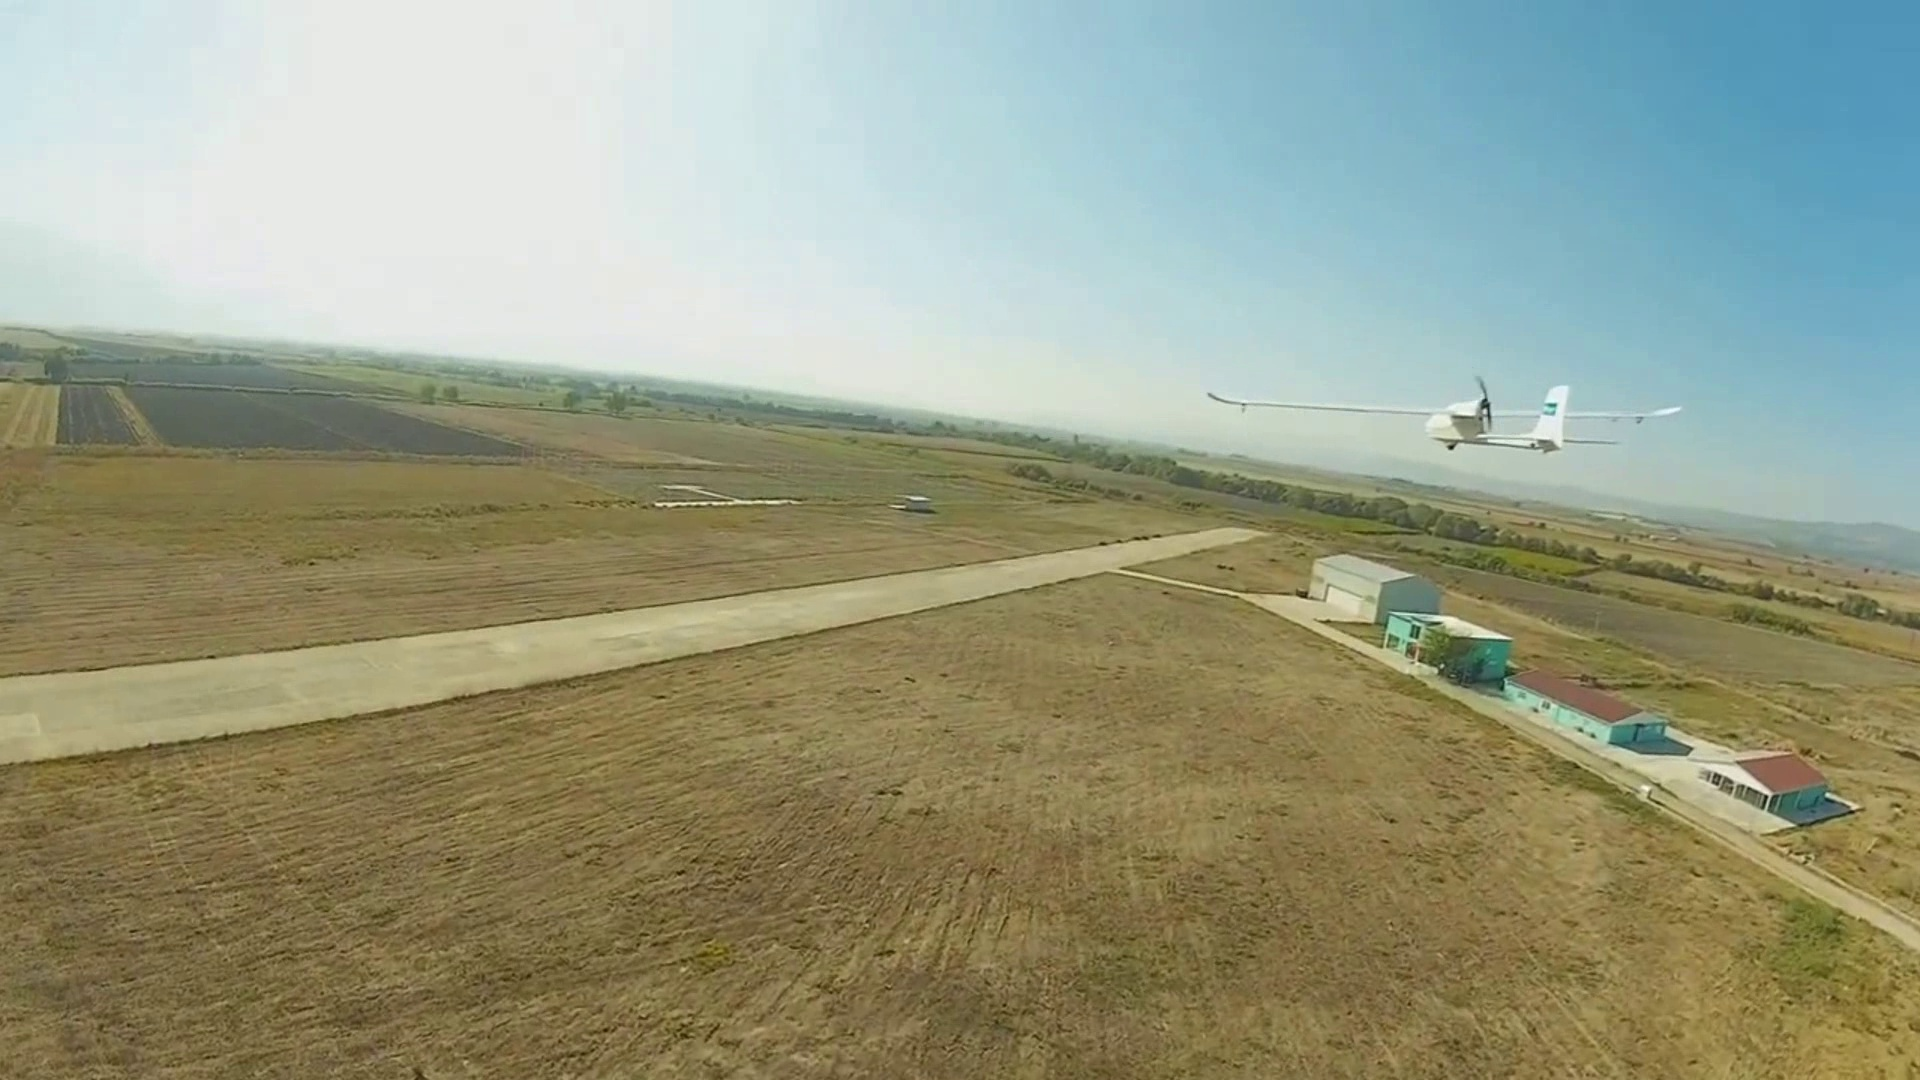airplane: (1202, 373, 1684, 453), (1420, 378, 1685, 460), (1427, 377, 1611, 454)
